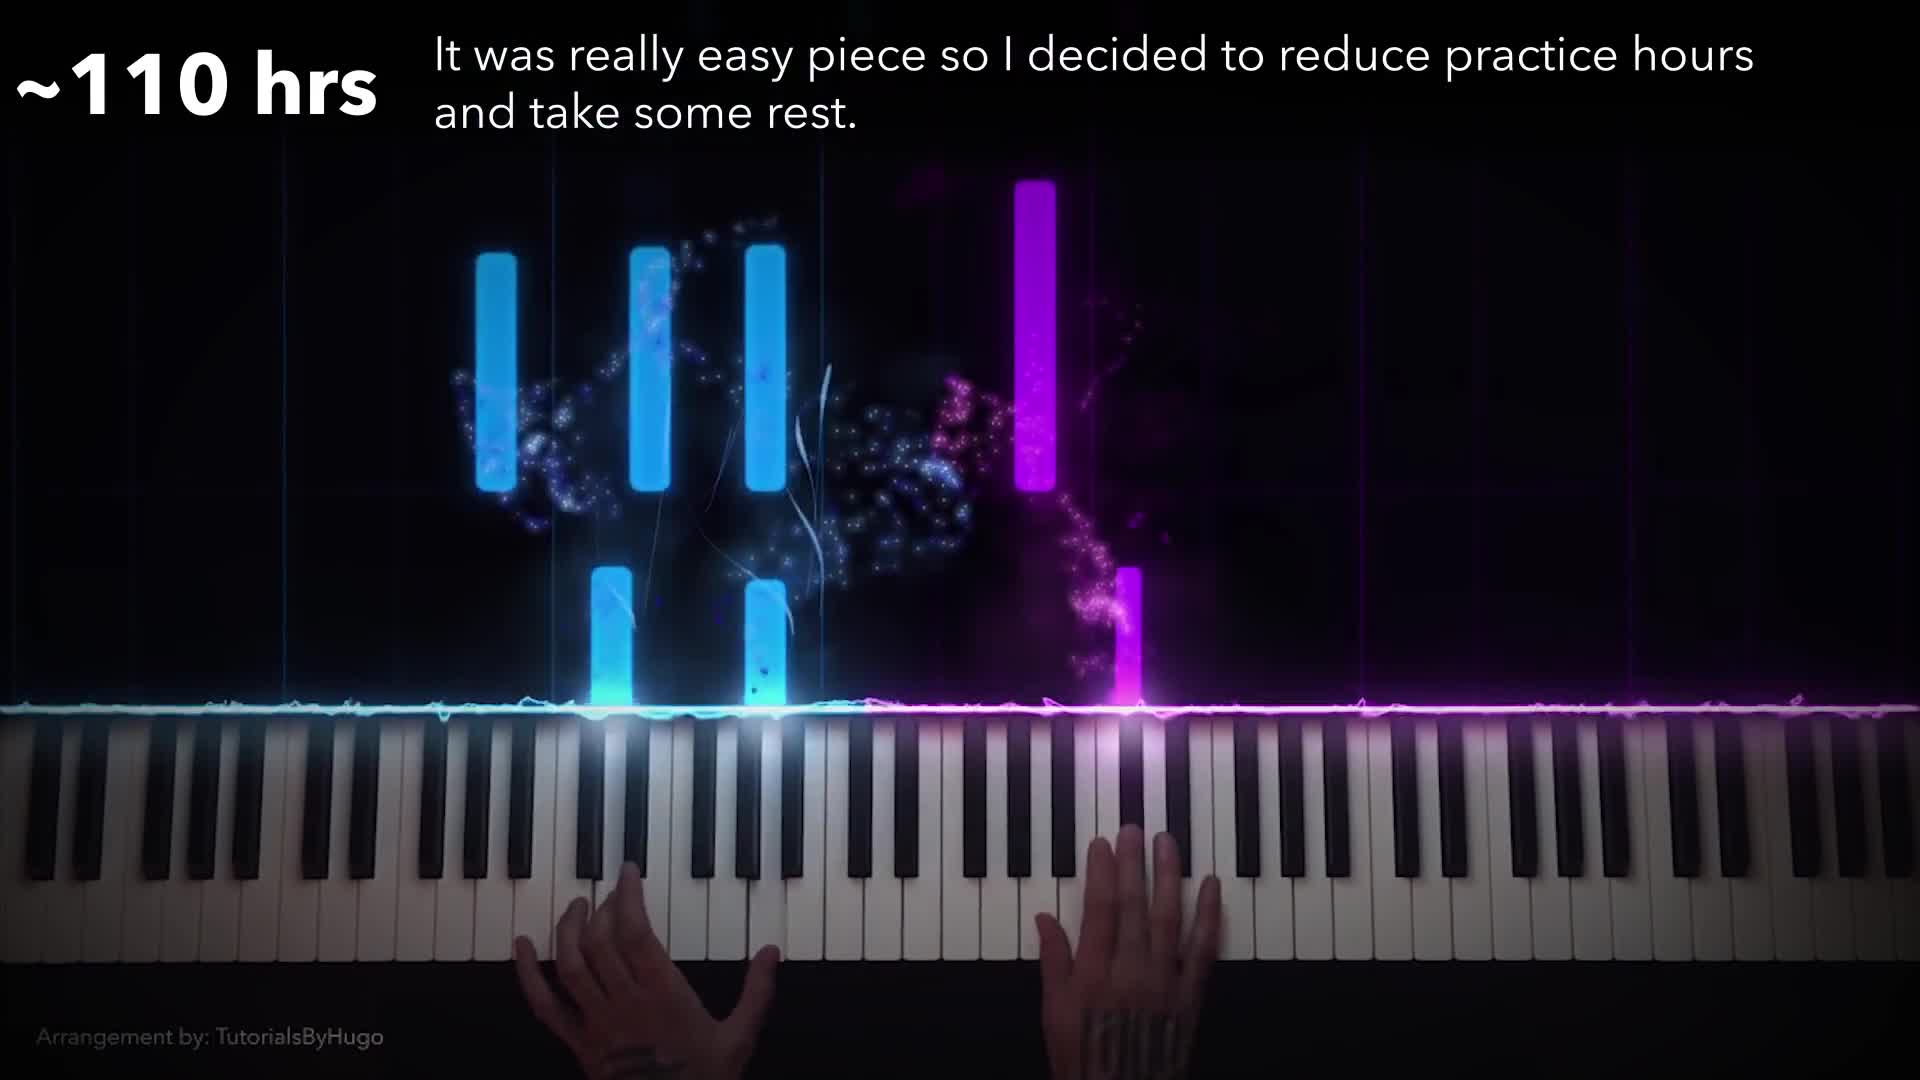left: (514, 858, 782, 1080)
right: (1031, 822, 1224, 1080)
